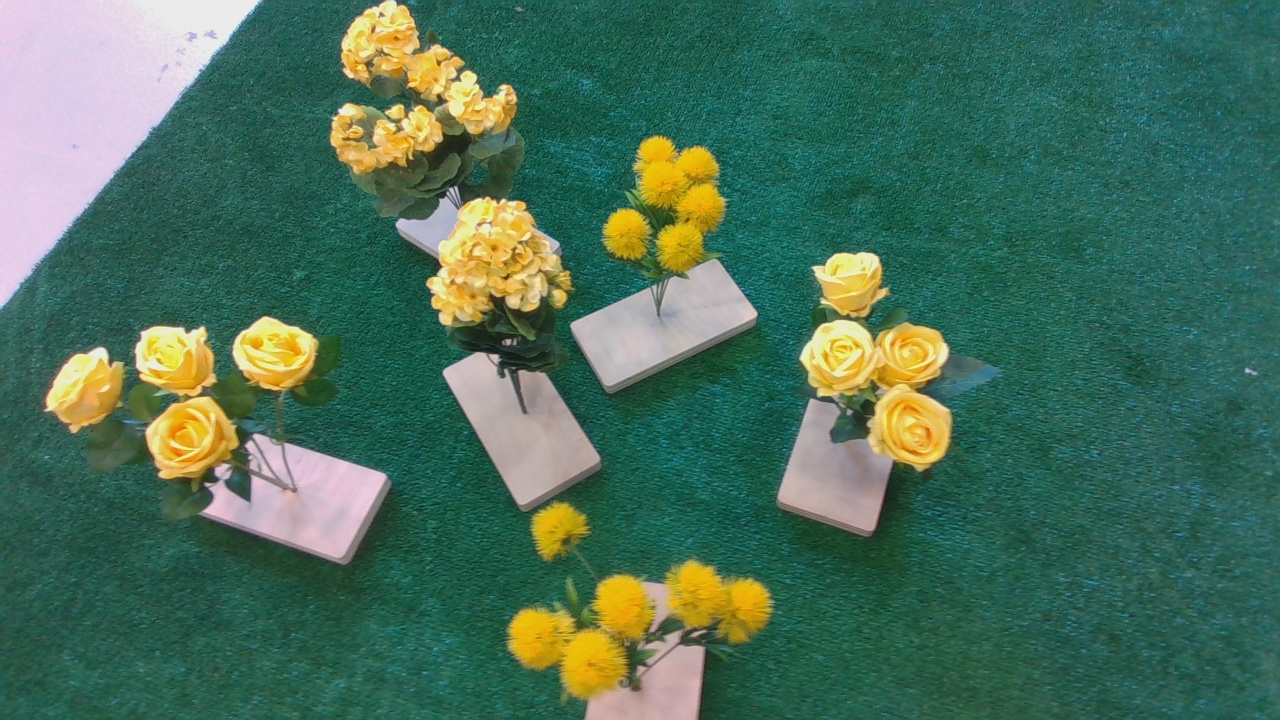dandelion: (485, 503, 789, 712), (606, 134, 736, 301)
geranium: (308, 6, 539, 197), (429, 201, 588, 372)
rose: (38, 318, 337, 497), (792, 241, 977, 484)
